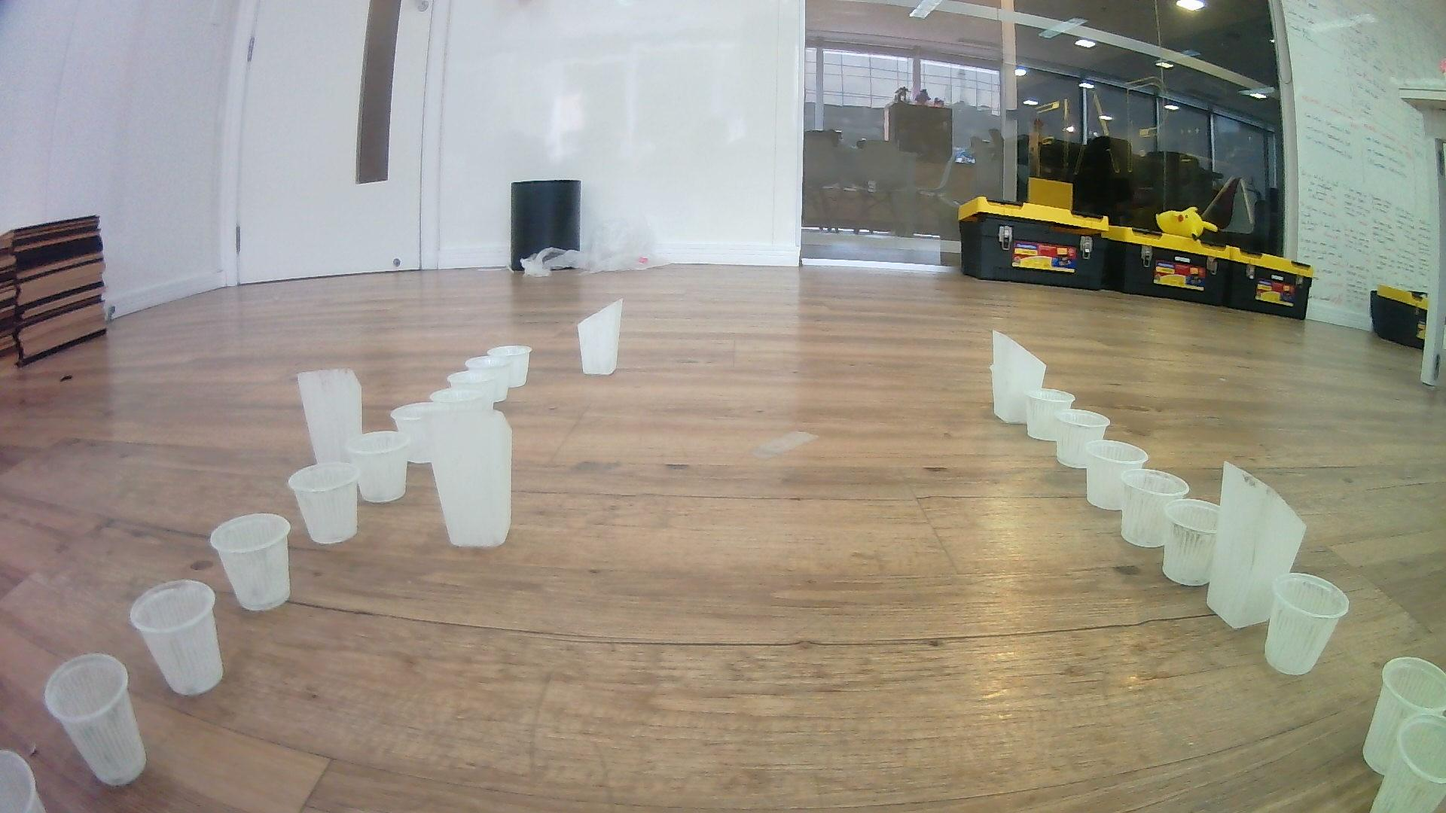erva_daninha: (1205, 461, 1307, 629), (425, 403, 514, 548), (296, 368, 363, 468), (990, 329, 1047, 425), (577, 297, 624, 376)
planta: (44, 653, 148, 787), (130, 579, 226, 696), (1361, 656, 1446, 777), (1264, 573, 1350, 676), (209, 513, 293, 612), (1372, 713, 1446, 813), (287, 462, 362, 546), (1119, 468, 1191, 549), (1162, 498, 1224, 586), (1081, 439, 1150, 510), (344, 431, 408, 504), (389, 400, 456, 463), (1054, 409, 1112, 469), (0, 748, 46, 813), (1024, 388, 1076, 442), (487, 344, 533, 388), (447, 370, 508, 402), (429, 386, 496, 413), (465, 356, 516, 386)
